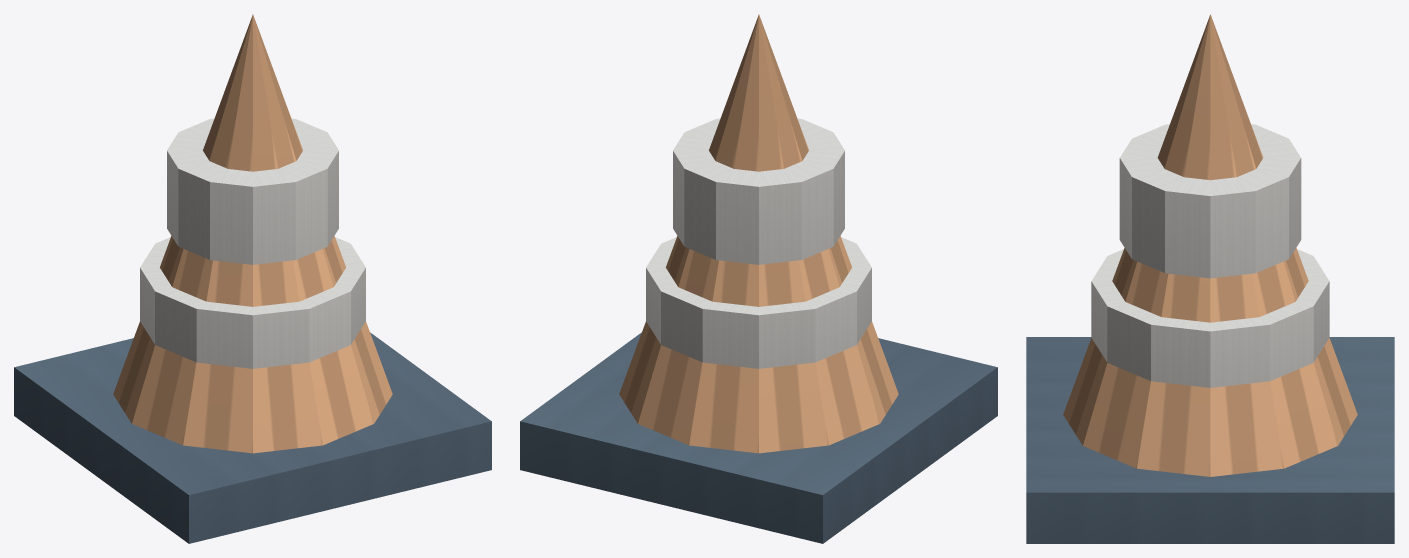
The model's file is traffic_cone.glb.
3 views of the same model, side by side, from view 1: azimuth 30°, elevation 25°; view 2: azimuth 150°, elevation 25°; view 3: azimuth 270°, elevation 25° (orthographic). The views are drawn at different scales.
Visible parts, largest first — view 1: traffic_cone; view 2: traffic_cone; view 3: traffic_cone.
Part boxes in pixels (x1,y1,x2,y2): traffic_cone: [14, 14, 491, 543]; traffic_cone: [520, 14, 997, 543]; traffic_cone: [1026, 14, 1394, 543].
Size of the model in its own units: 0.65 by 0.88 by 0.65.
1 material, 1 textured.
